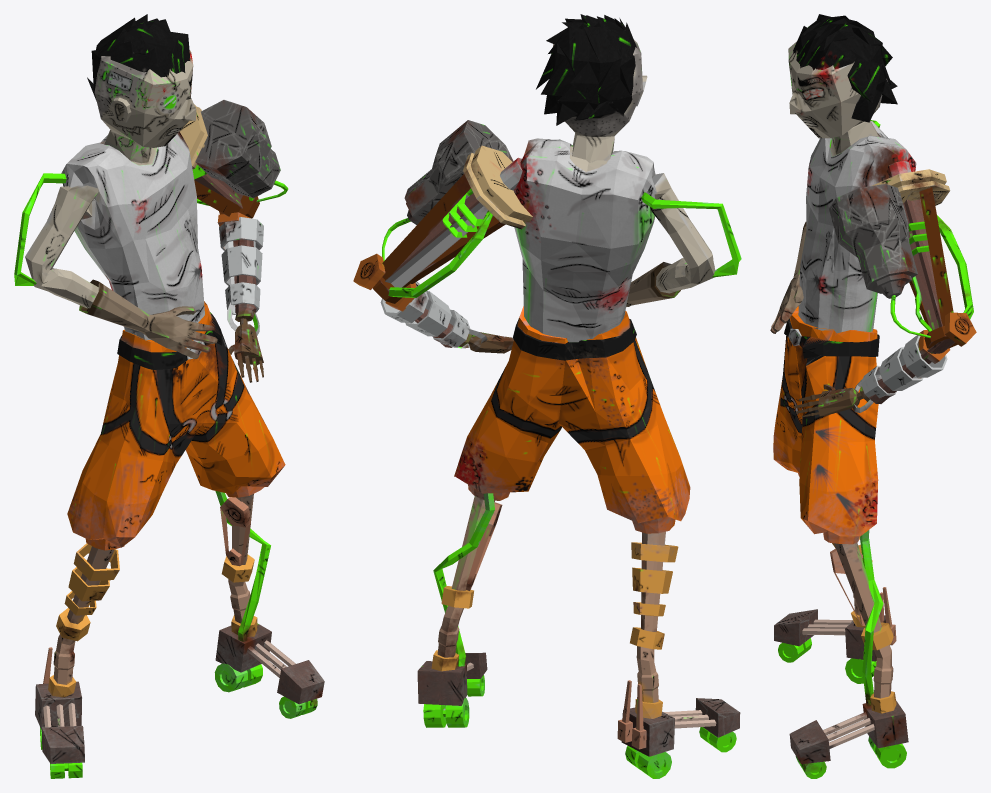
Rendered from CyborgFINALAnimation_000074.obj.
The picture shows the model from 3 angles, left to right: view 1: azimuth 30°, elevation 25°; view 2: azimuth 150°, elevation 25°; view 3: azimuth 270°, elevation 25°; orthographic projection. The views are drawn at different scales.
Parts seen in each view (by area): view 1: CyborgMesh_Cube.002; view 2: CyborgMesh_Cube.002; view 3: CyborgMesh_Cube.002.
Part boxes in pixels (x1,y1,x2,y2): CyborgMesh_Cube.002: (14, 14, 324, 778); CyborgMesh_Cube.002: (353, 14, 741, 778); CyborgMesh_Cube.002: (770, 14, 976, 778).
Bounding box in the file's own units: 4.34 × 9.6 × 2.59.
